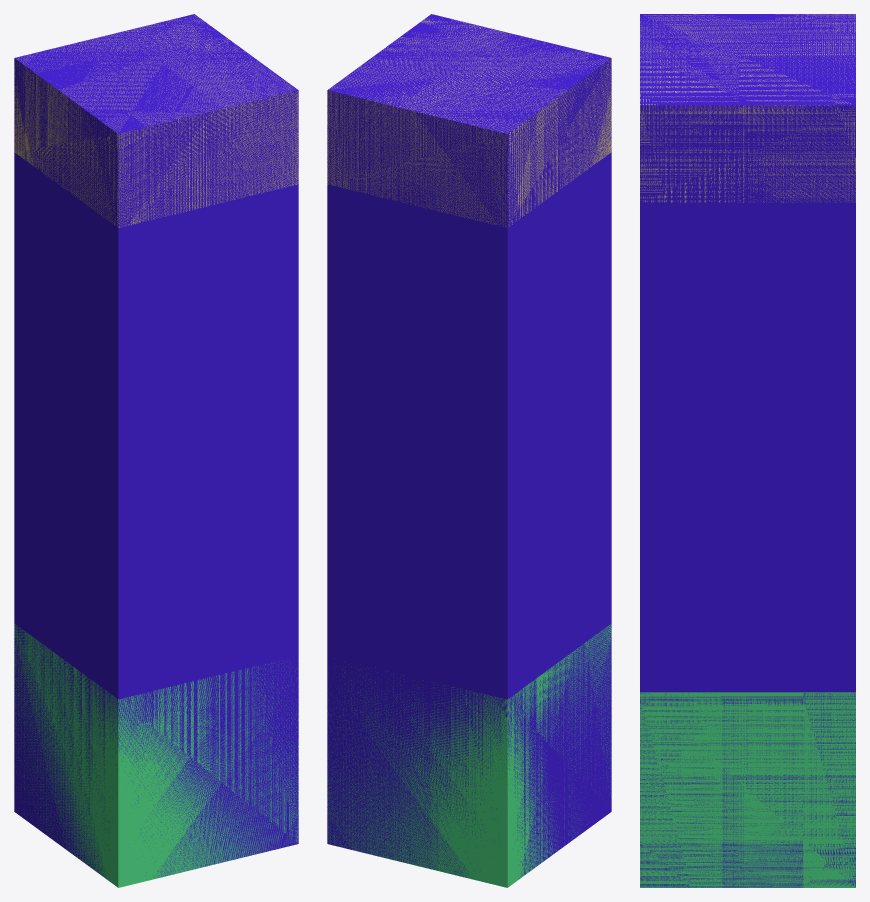
The model's file is tileset_0.glb.
3 views of the same model, side by side, from view 1: azimuth 30°, elevation 25°; view 2: azimuth 150°, elevation 25°; view 3: azimuth 270°, elevation 25° (orthographic). The views are drawn at different scales.
Parts seen in each view (by area): view 1: wall_, floor_, floor_ceiling_; view 2: wall_, floor_, floor_ceiling_; view 3: wall_, floor_, floor_ceiling_.
Boxes of the visible parts, <box> form: wall_: <box>14,14,298,877</box>; floor_: <box>14,623,298,887</box>; floor_ceiling_: <box>14,15,298,227</box>; wall_: <box>327,14,611,878</box>; floor_: <box>327,624,611,887</box>; floor_ceiling_: <box>327,18,611,227</box>; wall_: <box>640,14,855,887</box>; floor_: <box>640,692,855,887</box>; floor_ceiling_: <box>640,14,855,202</box>.
Size of the model in its own units: 2 by 8 by 2.
